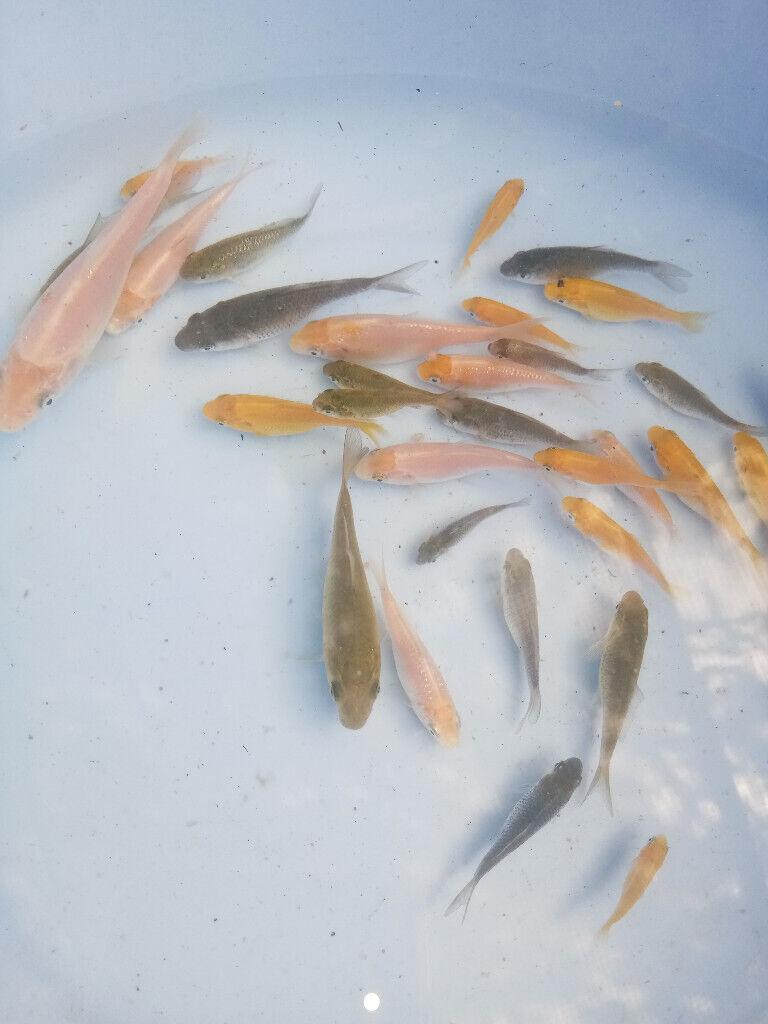fish: (434, 736, 598, 930), (302, 436, 402, 748), (164, 256, 428, 364), (160, 174, 342, 294), (478, 542, 566, 736), (522, 430, 724, 506), (193, 387, 401, 460), (580, 826, 686, 956), (442, 164, 544, 296)
